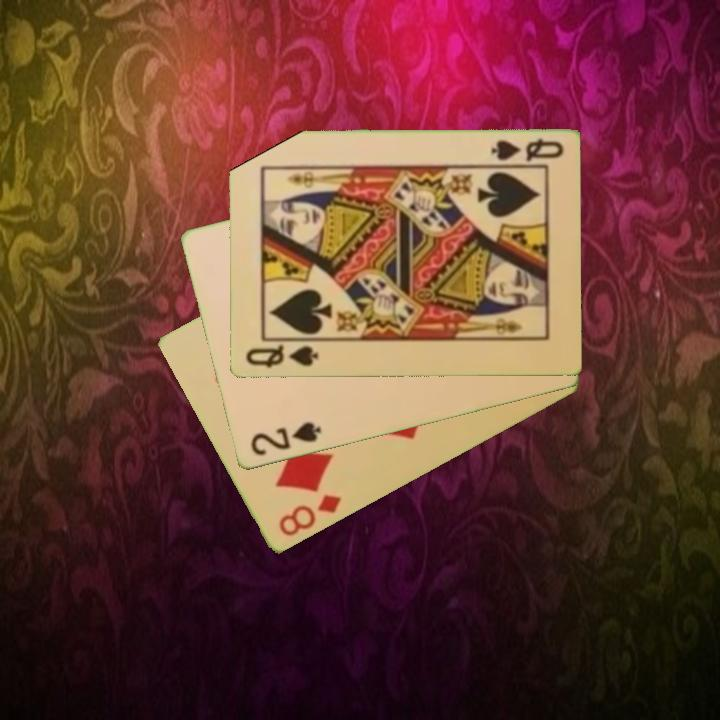2s: (247, 419, 324, 460)
8d: (274, 491, 345, 540)
Qs: (241, 341, 320, 371), (486, 136, 565, 165)
